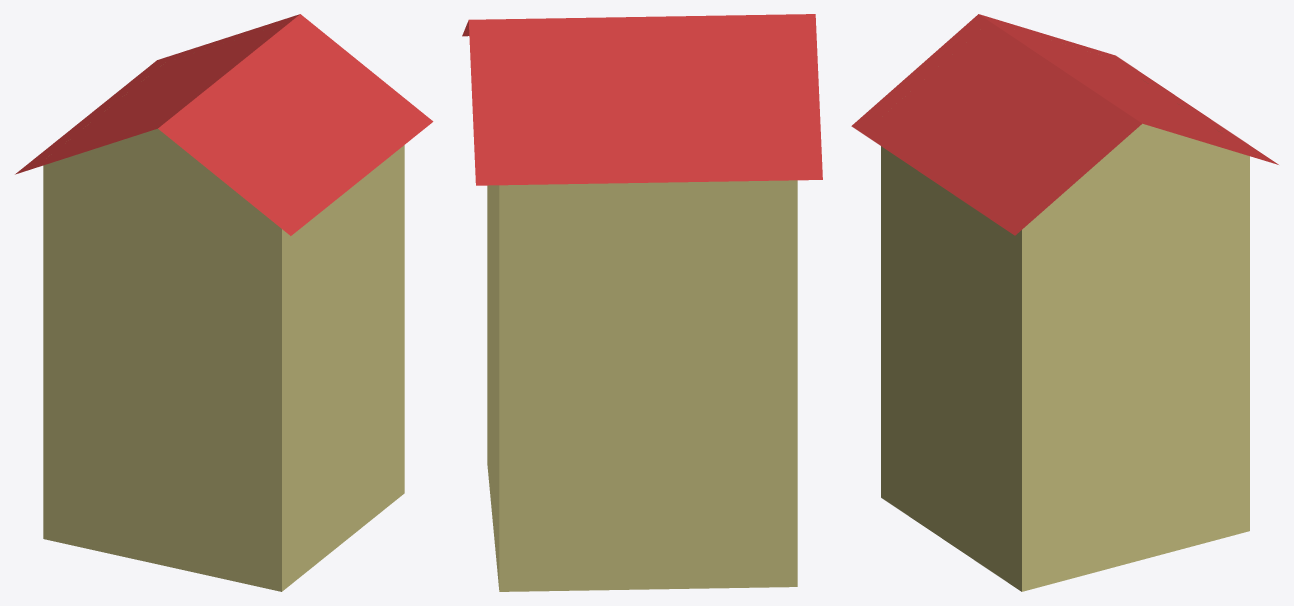
3 views of the same model, side by side, from view 1: azimuth 30°, elevation 25°; view 2: azimuth 150°, elevation 25°; view 3: azimuth 270°, elevation 25° (orthographic). The views are drawn at different scales.
Bounding box in the file's own units: 4.96 × 4.98 × 5.73.
